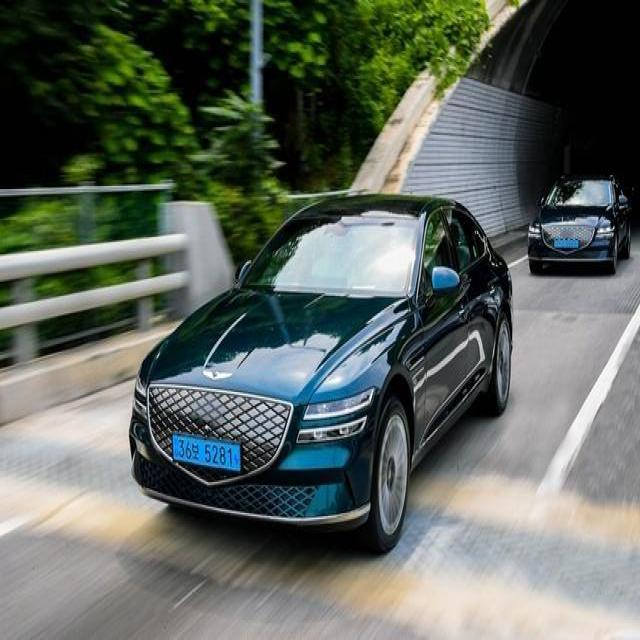EV_plate: (171, 430, 243, 478)
car: (126, 187, 514, 550)
